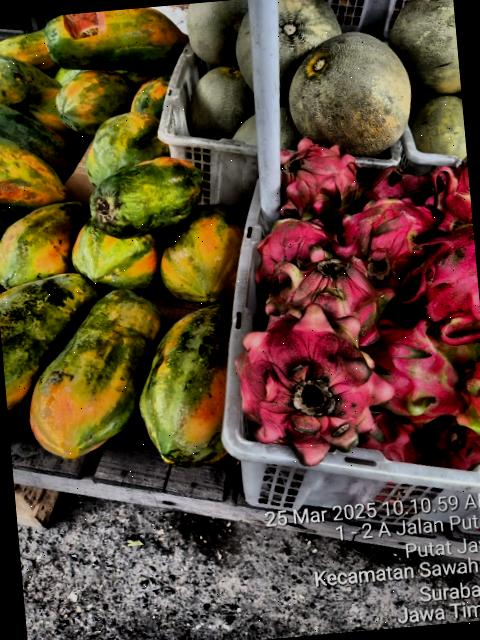buah-naga-belum-matang: (229, 299, 392, 461), (266, 245, 391, 347), (360, 316, 462, 428)
buah-naga-matang: (272, 124, 358, 210), (406, 239, 480, 334), (342, 200, 422, 281), (353, 412, 430, 478), (254, 210, 322, 278), (422, 158, 473, 232), (361, 162, 432, 200)
